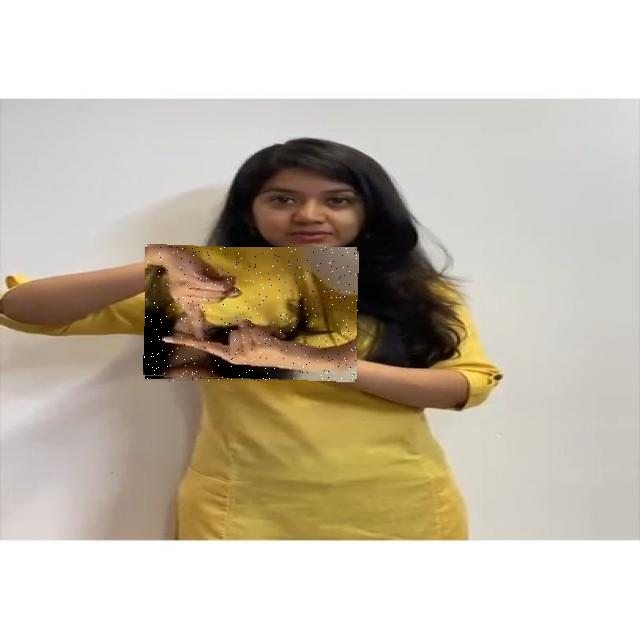T: (144, 246, 358, 381)
